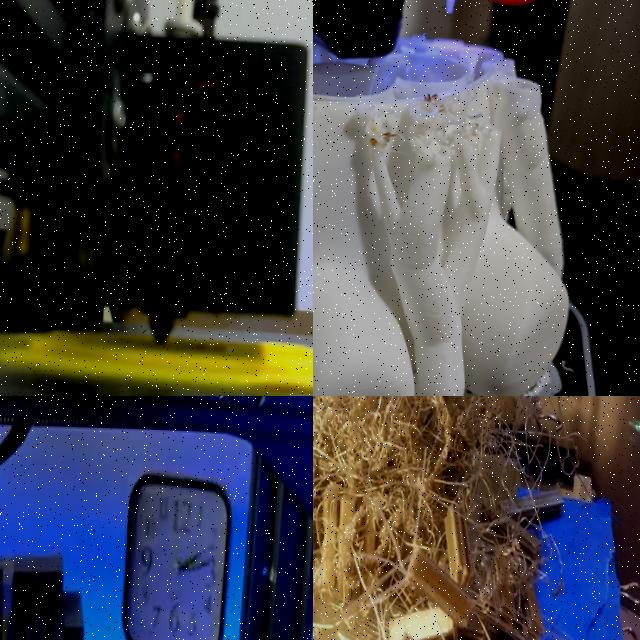spaghetti: (313, 396, 561, 640), (350, 85, 500, 179)
